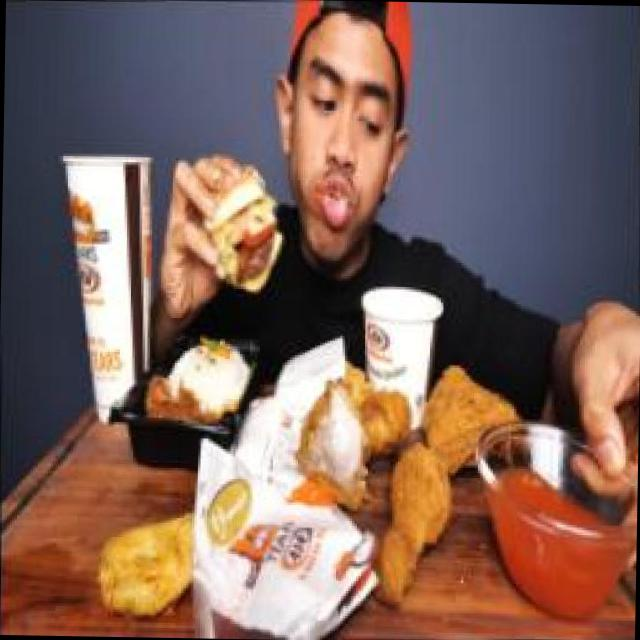AW cola: (52, 115, 181, 440)
black pepper rice bowl: (137, 327, 272, 457)
fried chicken: (284, 370, 532, 598)
mozza burger: (190, 150, 288, 305)
perkedel: (90, 508, 202, 614)
